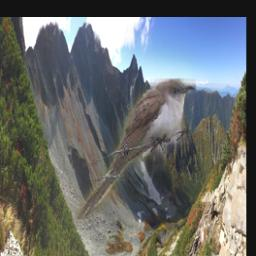Cuckoo: (76, 79, 196, 220)
